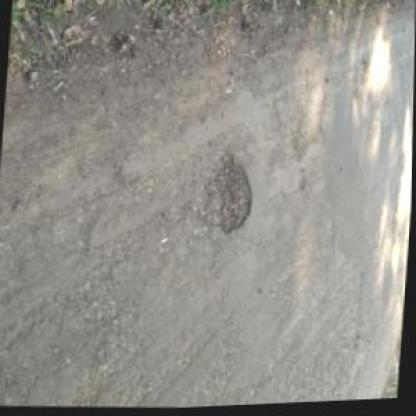pothole: (207, 147, 258, 240)
